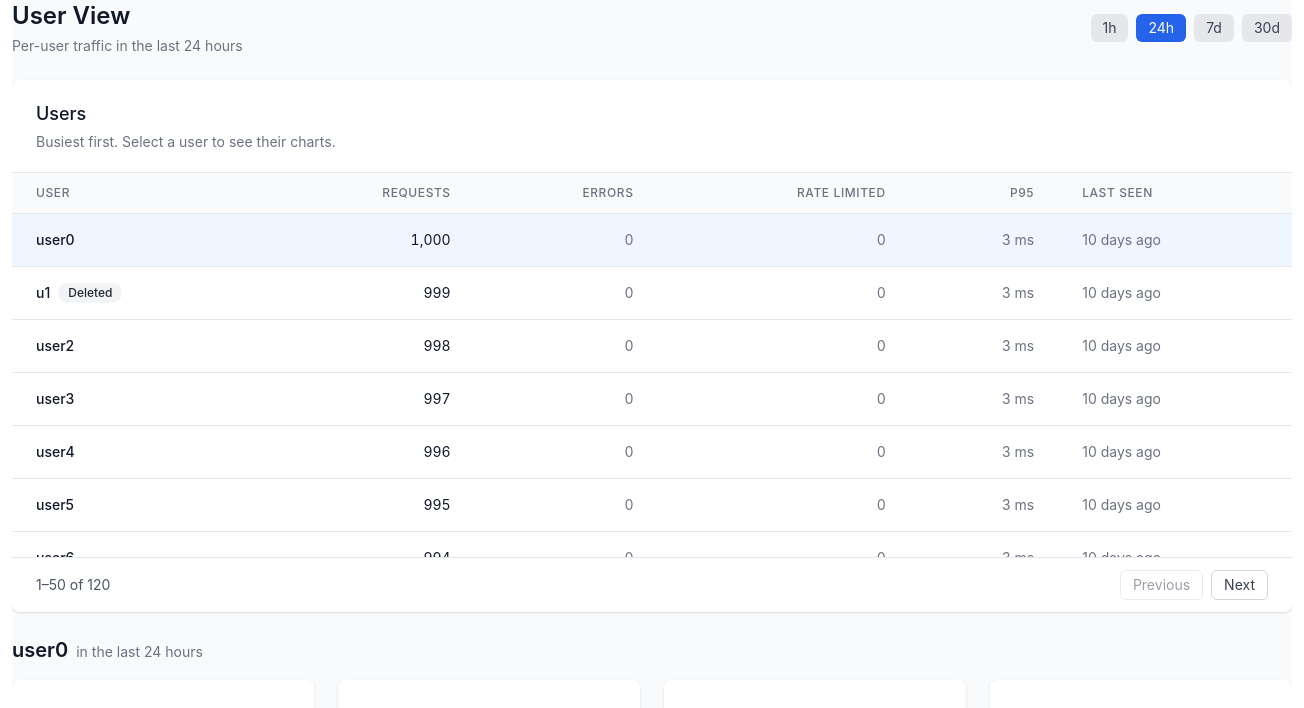
Test: UserView › admins page through users with traffic, busiest first
Expected: the text "1–50 of 120" is shown, [36,575,110,595]
Expected: the button "Previous" is disabled, [1120,570,1203,600]
Click the button "Next" at point(1240, 585), box [1211,570,1268,600]
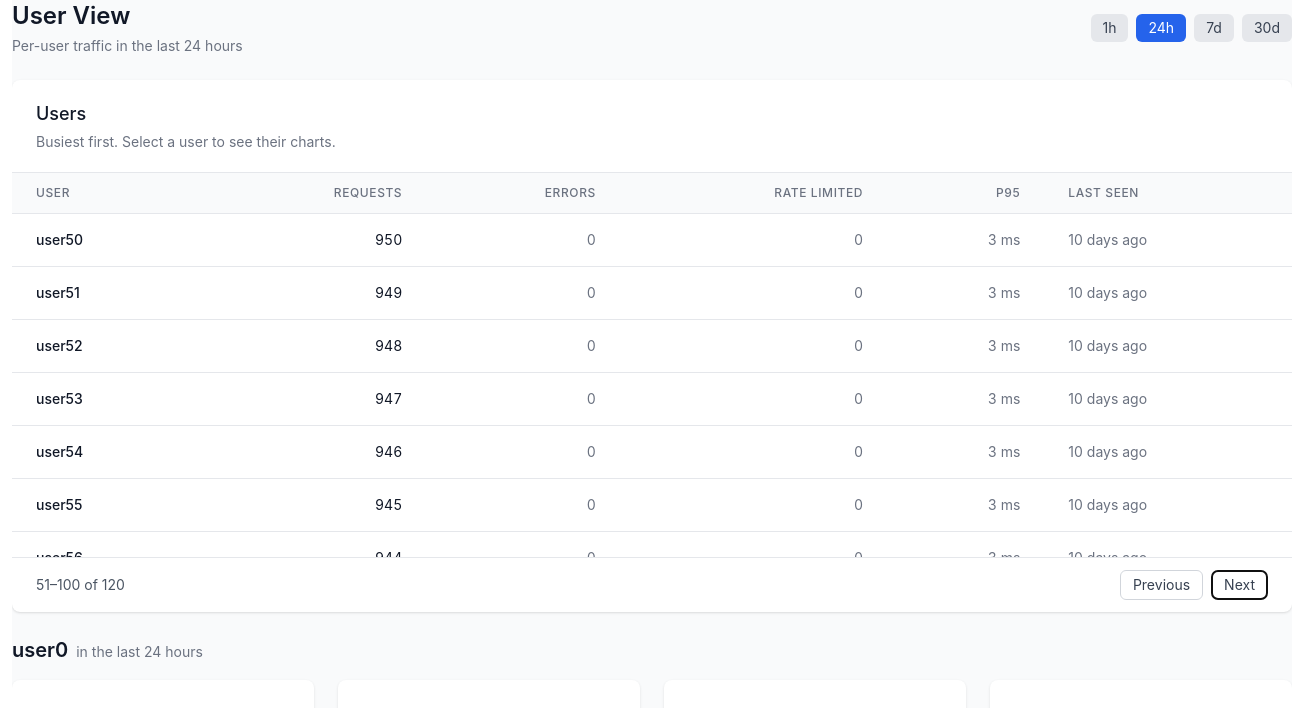
Expected: the text "51–100 of 120" is shown, [36,575,125,595]
Click the button "Next" at point(1240, 585), box [1211,570,1268,600]
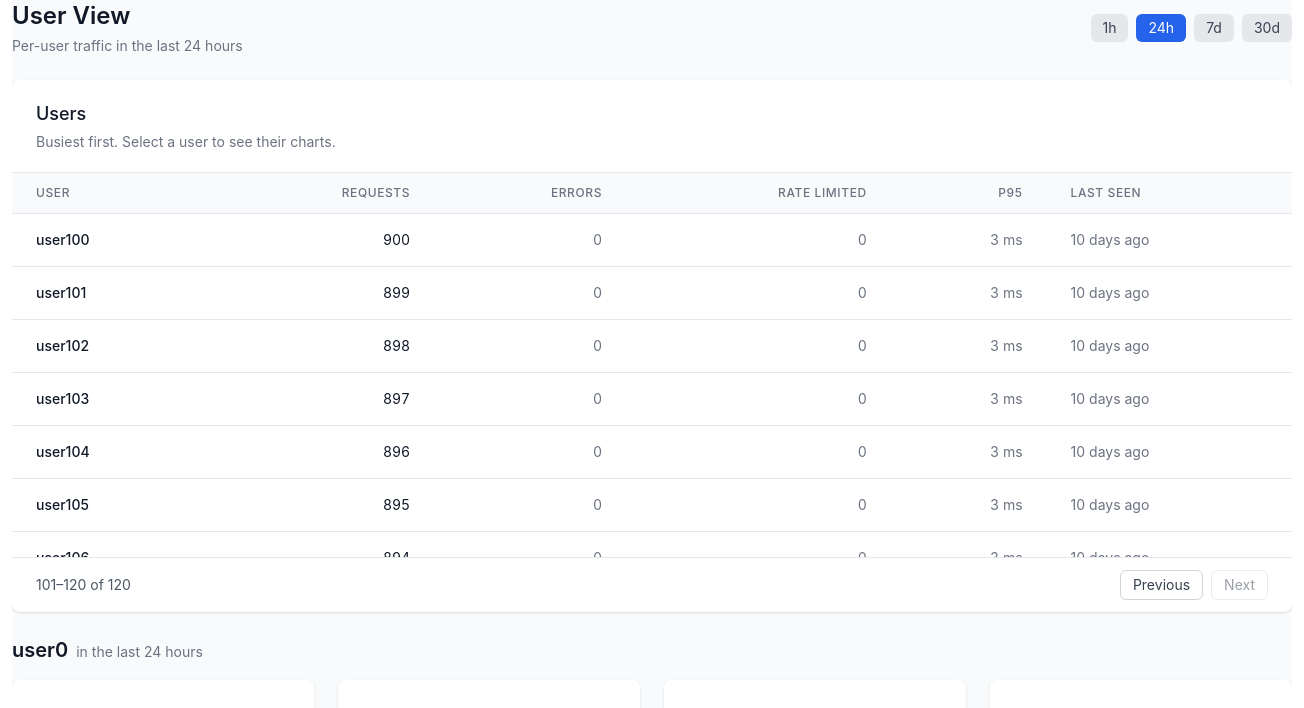
Expected: the heading "user0in the last 24 hours" is shown, [12,638,203,662]
Expected: the text "101–120 of 120" is shown, [36,575,131,595]
Expected: the button "Next" is disabled, [1211,570,1268,600]
// A new range ranks users afresh, from the top.
Click the button "7d" at point(1214, 28), box [1194,14,1234,42]
(page scrolled)
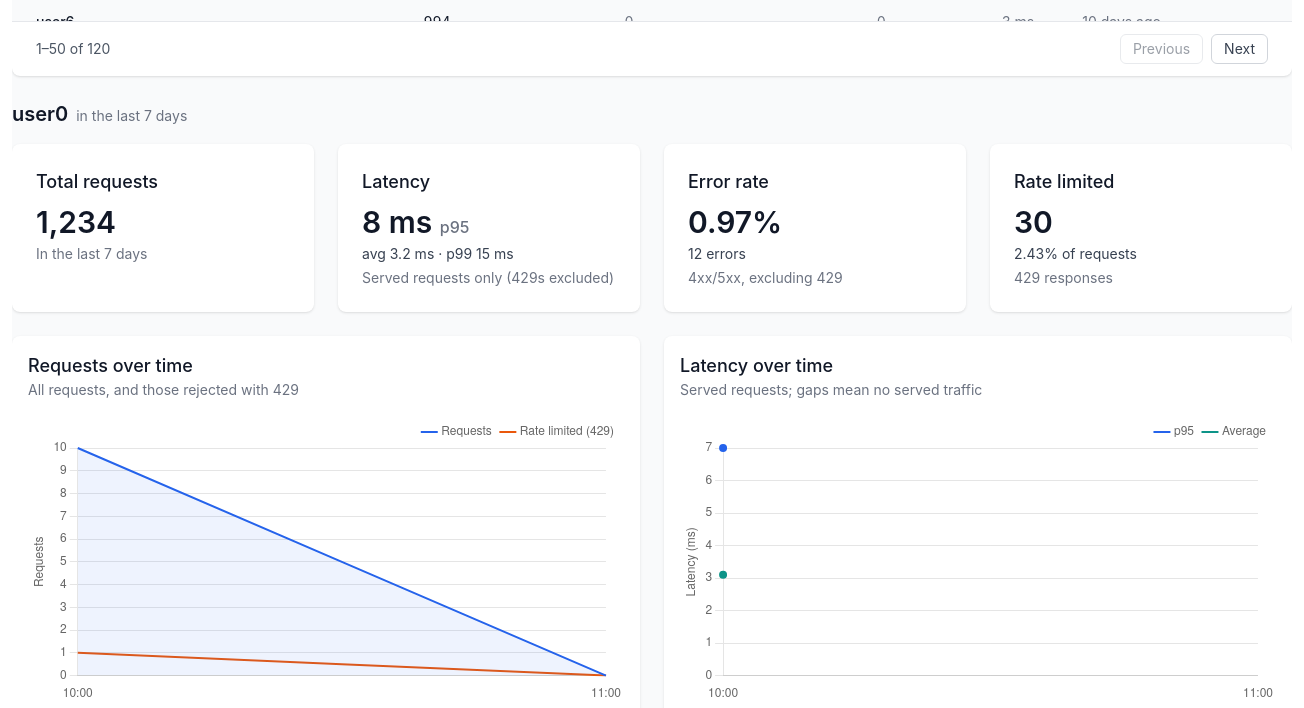
Expected: the text "1–50 of 120" is shown, [36,39,110,59]
